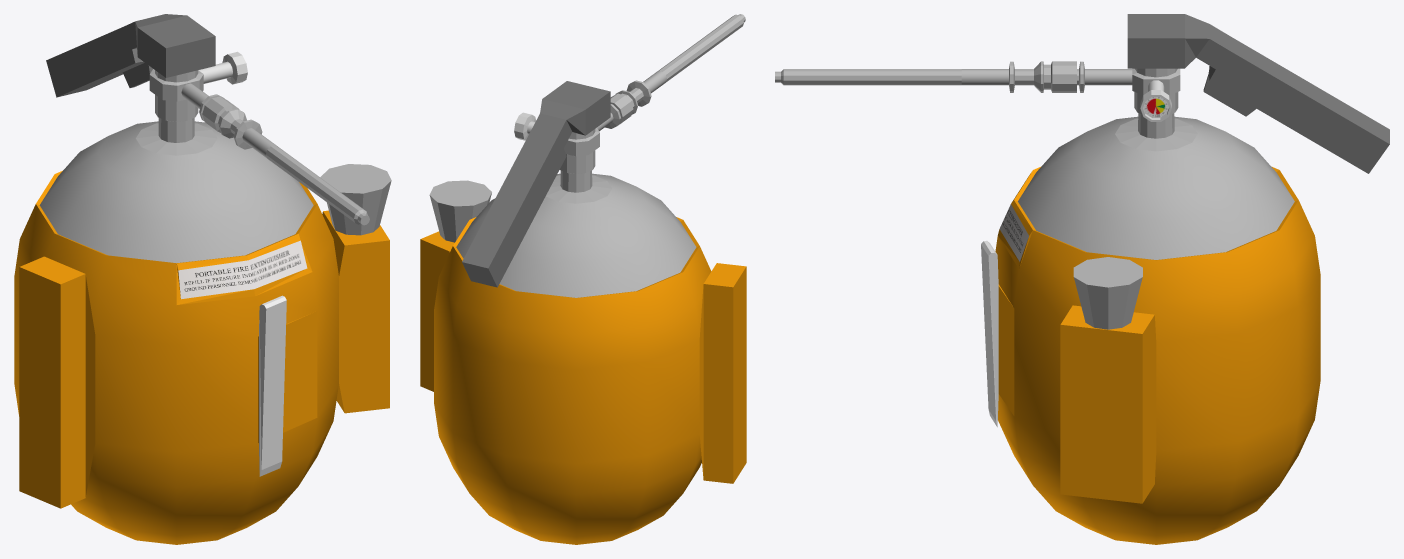
File: Fire_Extinguisher.FBX
3 renders of one model, left to right at view 1: azimuth 30°, elevation 25°; view 2: azimuth 150°, elevation 25°; view 3: azimuth 270°, elevation 25°, orthographic. The views are drawn at different scales.
Visible parts, largest first — view 1: Vessel_Cover, Pressure_Vessel, Handle, Fabric_Handle, Nozzle_Slim, Vessel_Cover_Label, Nozzle_Cone, Chrome_Parts, Pressure_Gauge, Outlet; view 2: Vessel_Cover, Pressure_Vessel, Handle, Nozzle_Slim, Nozzle_Cone, Chrome_Parts, Pressure_Gauge; view 3: Vessel_Cover, Pressure_Vessel, Handle, Nozzle_Slim, Nozzle_Cone, Fabric_Handle, Chrome_Parts, Outlet, Vessel_Cover_Label.
Part boxes in pixels (bbox=[...]): Vessel_Cover: bbox=[14, 170, 389, 544]; Pressure_Vessel: bbox=[39, 121, 313, 263]; Handle: bbox=[46, 14, 215, 97]; Fabric_Handle: bbox=[259, 295, 286, 476]; Nozzle_Slim: bbox=[202, 96, 369, 225]; Vessel_Cover_Label: bbox=[178, 240, 307, 299]; Nozzle_Cone: bbox=[320, 164, 391, 235]; Chrome_Parts: bbox=[149, 69, 203, 142]; Pressure_Gauge: bbox=[198, 51, 247, 84]; Outlet: bbox=[181, 83, 224, 120]; Vessel_Cover: bbox=[420, 217, 746, 544]; Pressure_Vessel: bbox=[456, 173, 696, 297]; Handle: bbox=[462, 81, 610, 287]; Nozzle_Slim: bbox=[610, 14, 745, 124]; Nozzle_Cone: bbox=[429, 180, 491, 242]; Chrome_Parts: bbox=[559, 127, 599, 192]; Pressure_Gauge: bbox=[514, 112, 535, 140]; Vessel_Cover: bbox=[995, 167, 1320, 544]; Pressure_Vessel: bbox=[1018, 116, 1294, 259]; Handle: bbox=[1127, 14, 1389, 173]; Nozzle_Slim: bbox=[775, 61, 1076, 92]; Nozzle_Cone: bbox=[1073, 257, 1142, 329]; Fabric_Handle: bbox=[981, 240, 998, 427]; Chrome_Parts: bbox=[1132, 68, 1180, 138]; Outlet: bbox=[1077, 61, 1132, 92]; Vessel_Cover_Label: bbox=[999, 204, 1028, 261].
Size of the model in its own units: 0.3494 by 0.4742 by 0.5188.
Materials: 8 (2 with a texture image).
